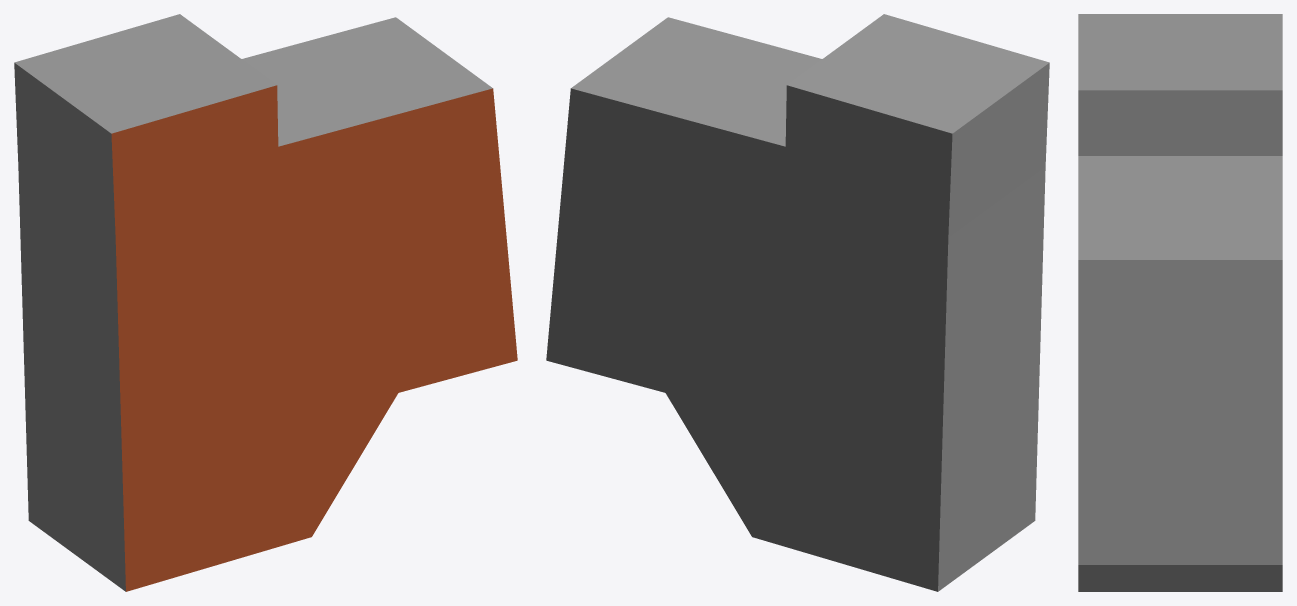
Rendered from construction_2453_assumed_A_Casa_h6m.obj.
The picture shows the model from 3 angles, left to right: view 1: azimuth 30°, elevation 25°; view 2: azimuth 150°, elevation 25°; view 3: azimuth 270°, elevation 25°; orthographic projection. The views are drawn at different scales.
Parts seen in each view (by area): view 1: construction_2453_assumed_A_Casa; view 2: construction_2453_assumed_A_Casa; view 3: construction_2453_assumed_A_Casa.
Boxes of the visible parts, left/top/right/bottom form: construction_2453_assumed_A_Casa: left=14, top=14, right=517, bottom=591; construction_2453_assumed_A_Casa: left=546, top=14, right=1049, bottom=591; construction_2453_assumed_A_Casa: left=1078, top=14, right=1282, bottom=591.
Bounding box in the file's own units: 14.47 × 15.99 × 6.
